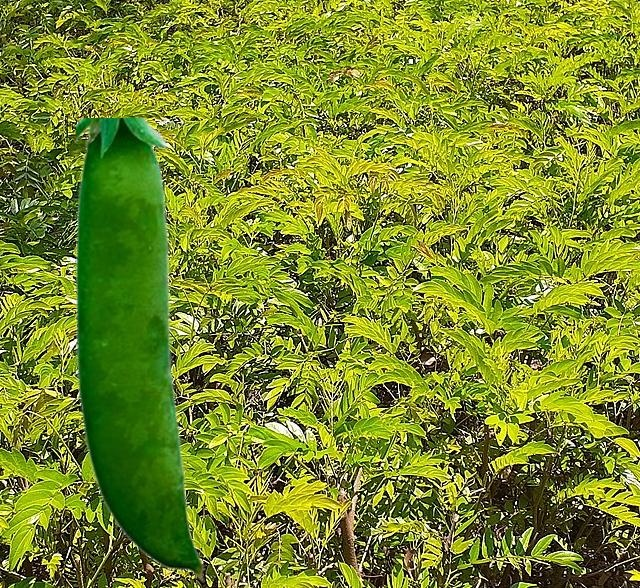pea: (76, 118, 203, 580)
